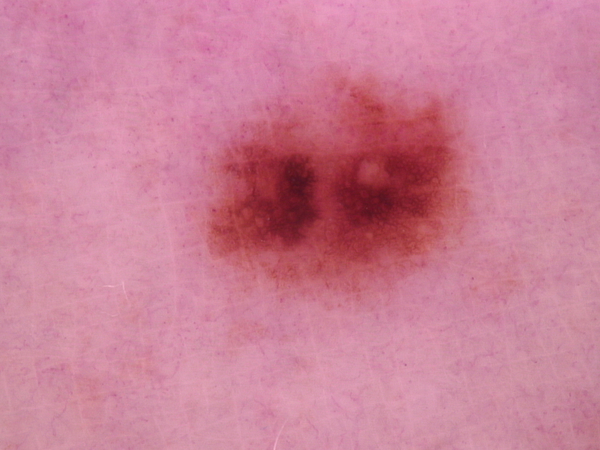Detected Lesion: (192, 71, 471, 316)
